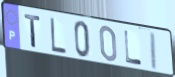0: (98, 25, 119, 64), (73, 21, 93, 61)
I: (150, 31, 159, 73)
L: (122, 29, 143, 67), (49, 16, 68, 56)
T: (23, 13, 42, 50)
